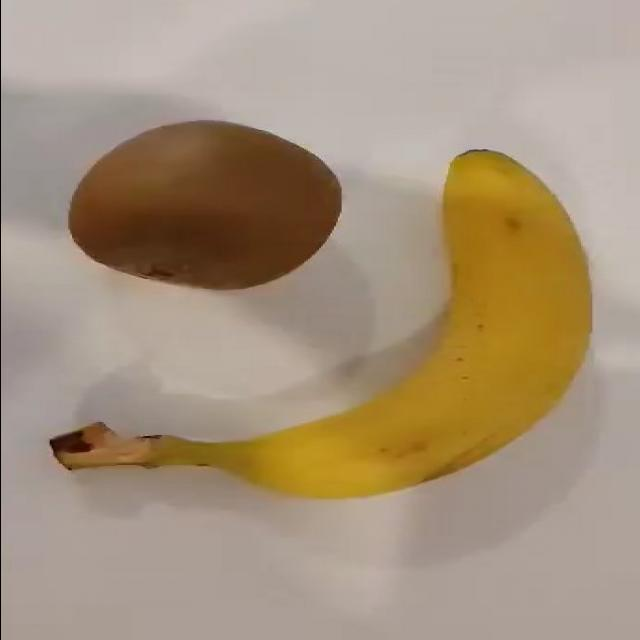Banana: (49, 147, 593, 500)
